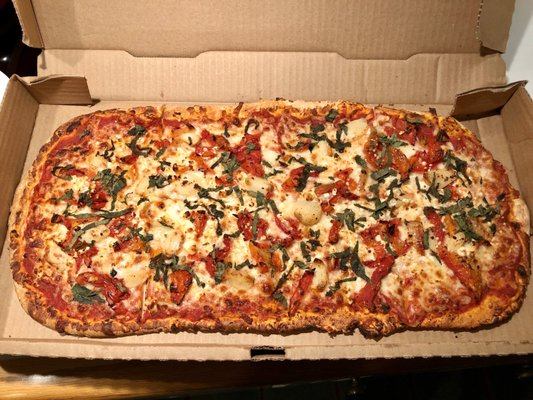sandwich: (5, 99, 529, 341)
